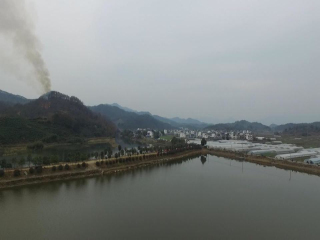smoke: (1, 7, 53, 101)
